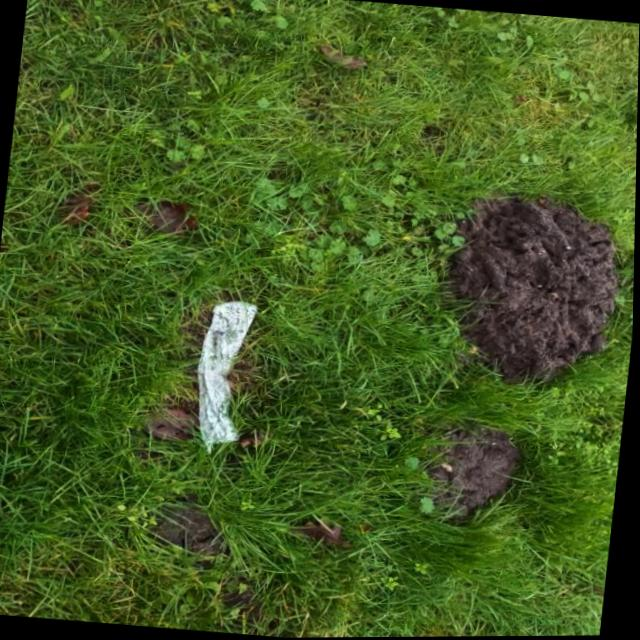Paper: (188, 297, 261, 455)
